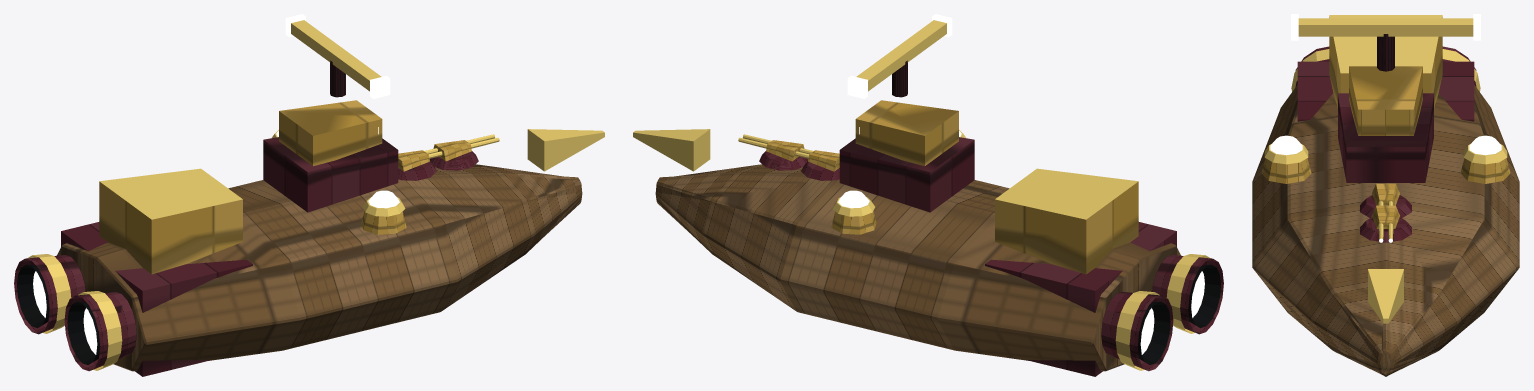
Rendered from command_ship.glb.
3 views of the same model, side by side, from view 1: azimuth 30°, elevation 25°; view 2: azimuth 150°, elevation 25°; view 3: azimuth 270°, elevation 25° (orthographic). The views are drawn at different scales.
Parts seen in each view (by area): view 1: hull_body, sensor_tower, engine_block, weapon_turrets, shield_domes; view 2: hull_body, sensor_tower, engine_block, weapon_turrets, shield_domes; view 3: hull_body, sensor_tower, engine_block, shield_domes, weapon_turrets.
Boxes of the visible parts, x1=… form: hull_body: x1=57, y1=129, x2=604, y2=371; sensor_tower: x1=263, y1=14, x2=398, y2=212; engine_block: x1=14, y1=222, x2=252, y2=376; weapon_turrets: x1=398, y1=134, x2=499, y2=180; shield_domes: x1=272, y1=130, x2=406, y2=234; hull_body: x1=633, y1=129, x2=1180, y2=371; sensor_tower: x1=839, y1=14, x2=974, y2=212; engine_block: x1=985, y1=222, x2=1223, y2=376; weapon_turrets: x1=738, y1=134, x2=839, y2=180; shield_domes: x1=831, y1=130, x2=965, y2=234; hull_body: x1=1252, y1=15, x2=1519, y2=376; sensor_tower: x1=1291, y1=14, x2=1480, y2=182; engine_block: x1=1291, y1=46, x2=1480, y2=121; shield_domes: x1=1261, y1=135, x2=1510, y2=183; weapon_turrets: x1=1360, y1=183, x2=1411, y2=242.
Size of the model in its own units: 56 by 25.51 by 21.96.
1 material, 1 textured.
